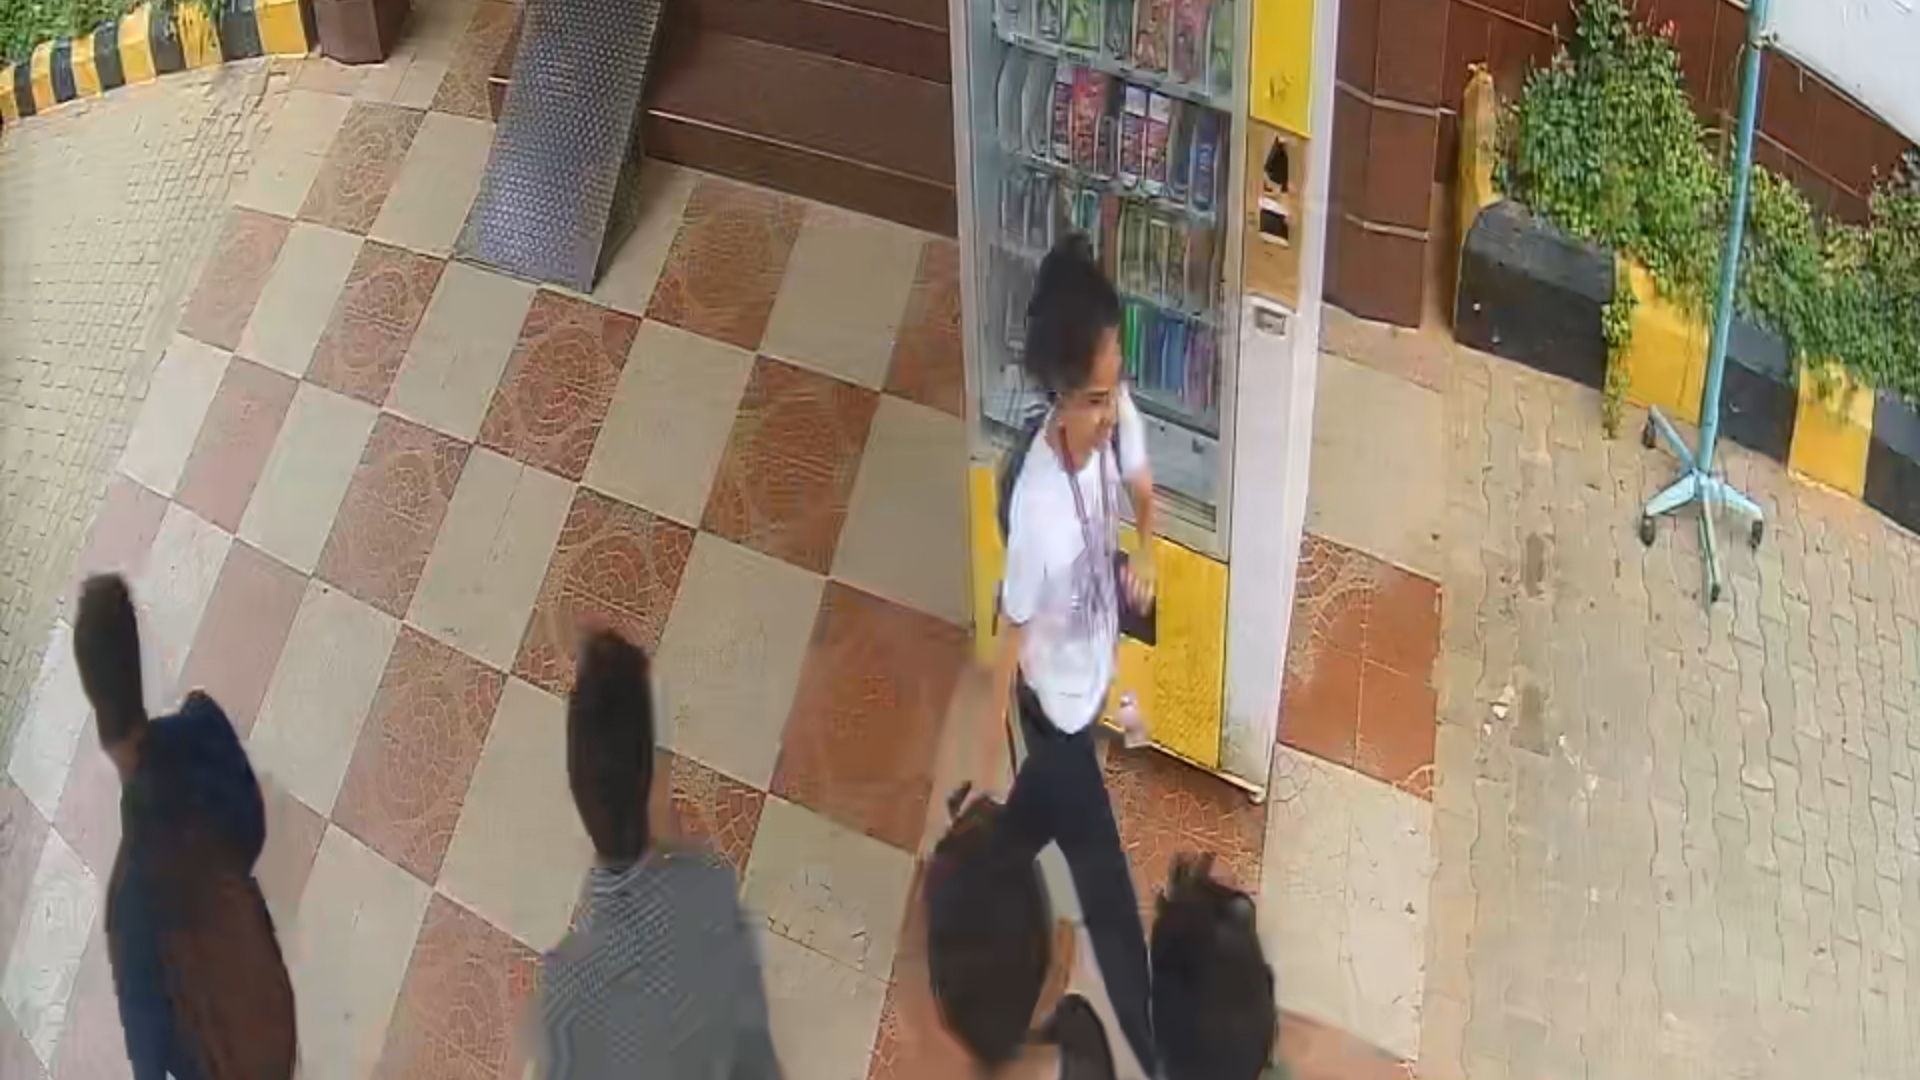not intruder: (980, 240, 1174, 920)
